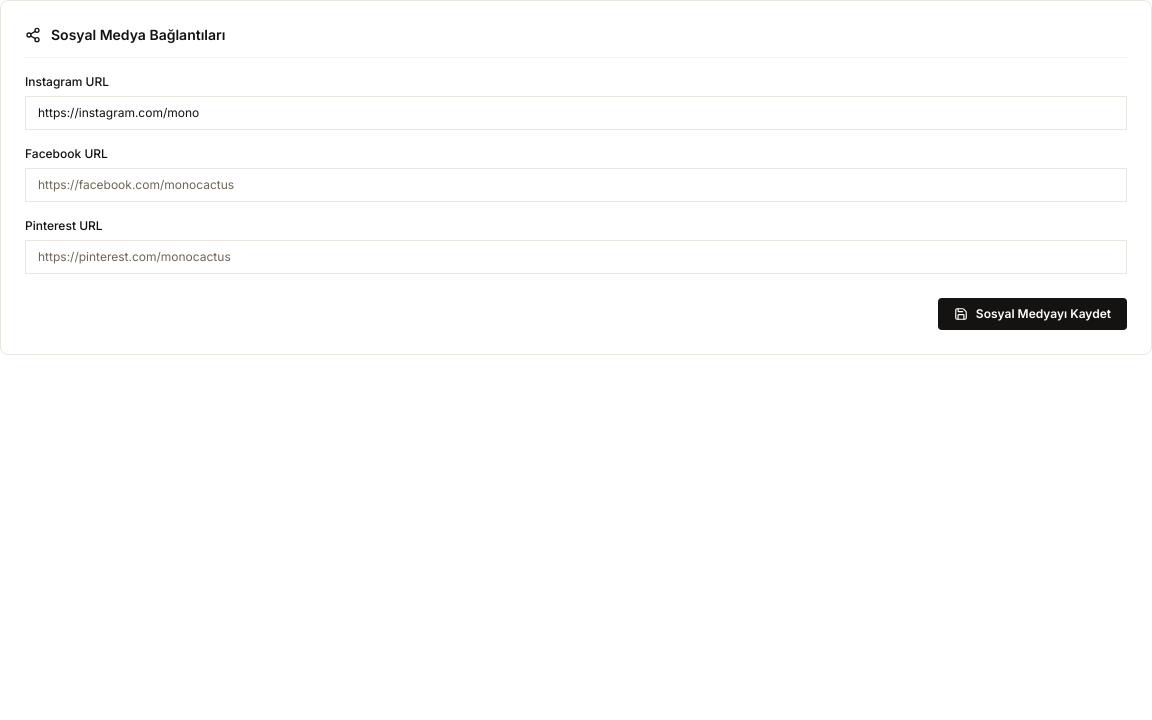
it: Admin Settings Tab Components (Phase 3.10) › AdminSocialSettingsTab › handles social error rejection
This screenshot has width=1152, height=720.
Click the button "Sosyal Medyayı Kaydet". click: (1032,314)
box: [938,298,1127,330]
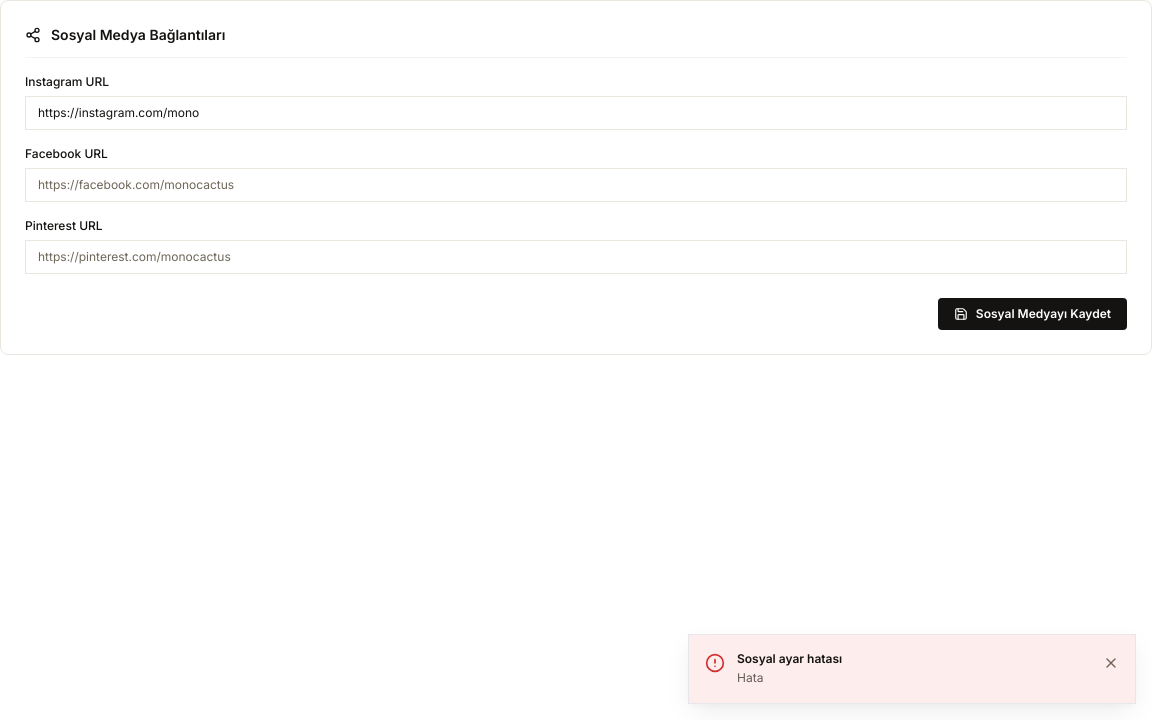
expect the heading "Sosyal ayar hatası" is shown: met, box [737,650,842,666]
